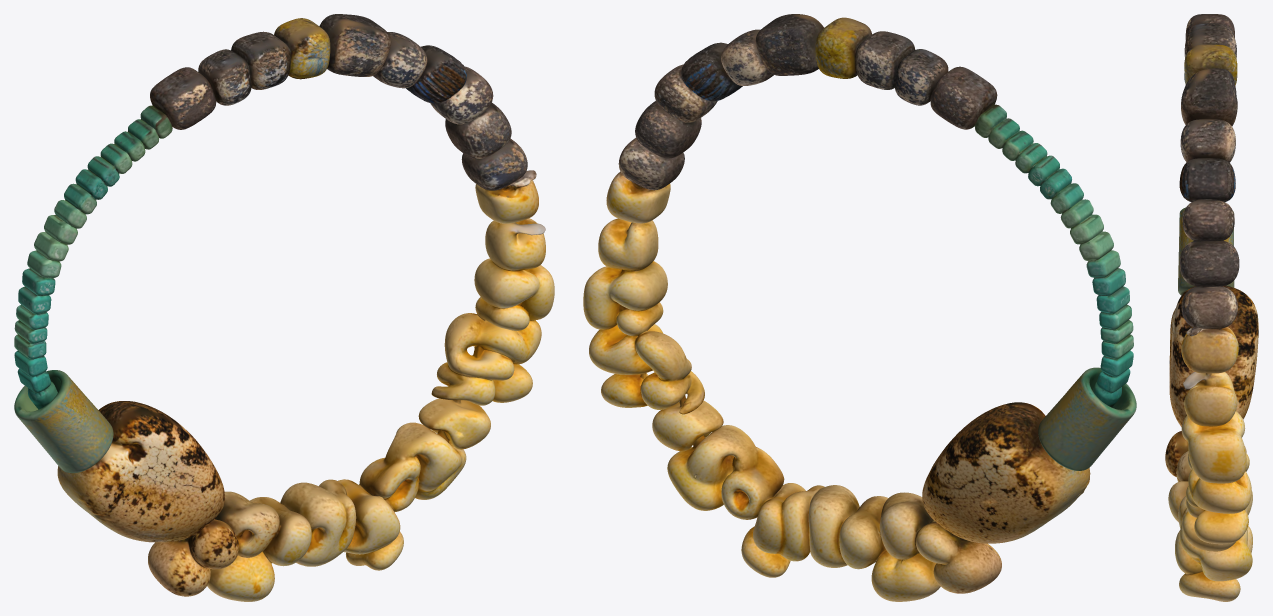
File: 039-ozherele-iz-raznocvetnyh-bus.glb
3 renders of one model, left to right at view 1: azimuth 30°, elevation 25°; view 2: azimuth 150°, elevation 25°; view 3: azimuth 270°, elevation 25°, orthographic. The views are drawn at different scales.
Parts seen in each view (by area): view 1: node_0; view 2: node_0; view 3: node_0.
Part boxes in pixels (<box>): node_0: <box>14,14,554,601</box>; node_0: <box>583,14,1136,601</box>; node_0: <box>1165,14,1258,601</box>.
Bounding box in the file's own units: 1.14 × 1.14 × 0.1853.
1 material, 1 textured.
